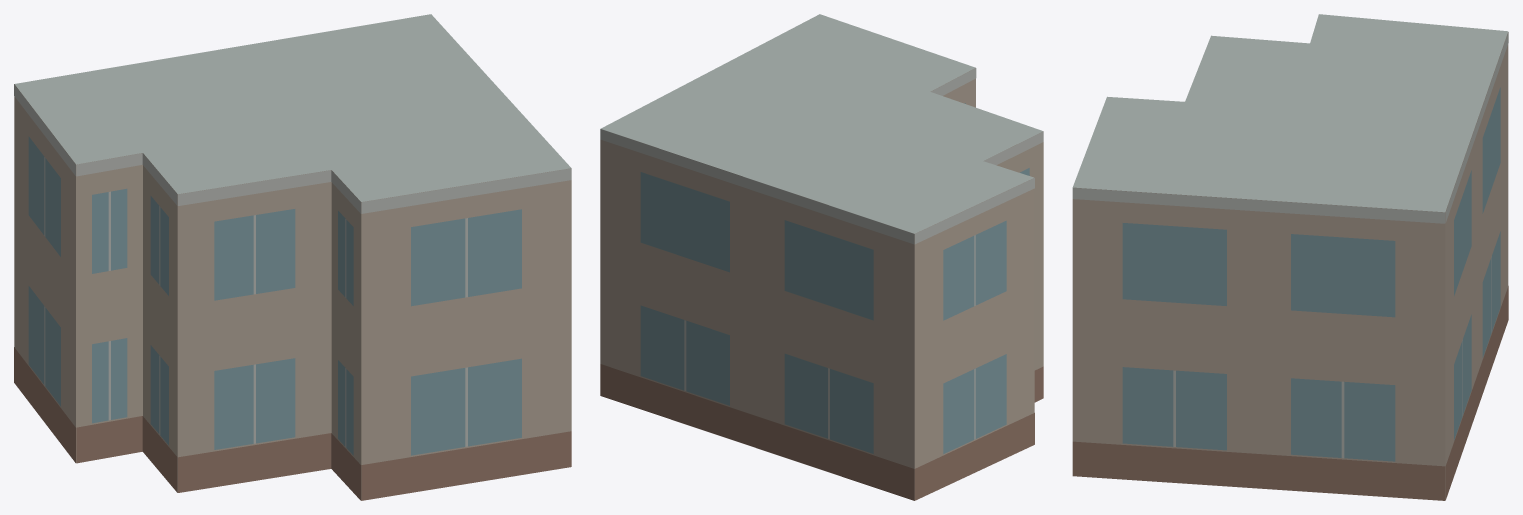
The model's file is survey-upis-32804389.glb.
The picture shows the model from 3 angles, left to right: view 1: azimuth 30°, elevation 25°; view 2: azimuth 150°, elevation 25°; view 3: azimuth 270°, elevation 25°; orthographic projection. The views are drawn at different scales.
Parts seen in each view (by area): view 1: survey-upis-32804389.tmp; view 2: survey-upis-32804389.tmp; view 3: survey-upis-32804389.tmp.
Part boxes in pixels (<box>): survey-upis-32804389.tmp: <box>14,14,571,500</box>; survey-upis-32804389.tmp: <box>600,14,1043,500</box>; survey-upis-32804389.tmp: <box>1072,14,1508,500</box>.
Size of the model in its own units: 9 by 6.1 by 8.36.
